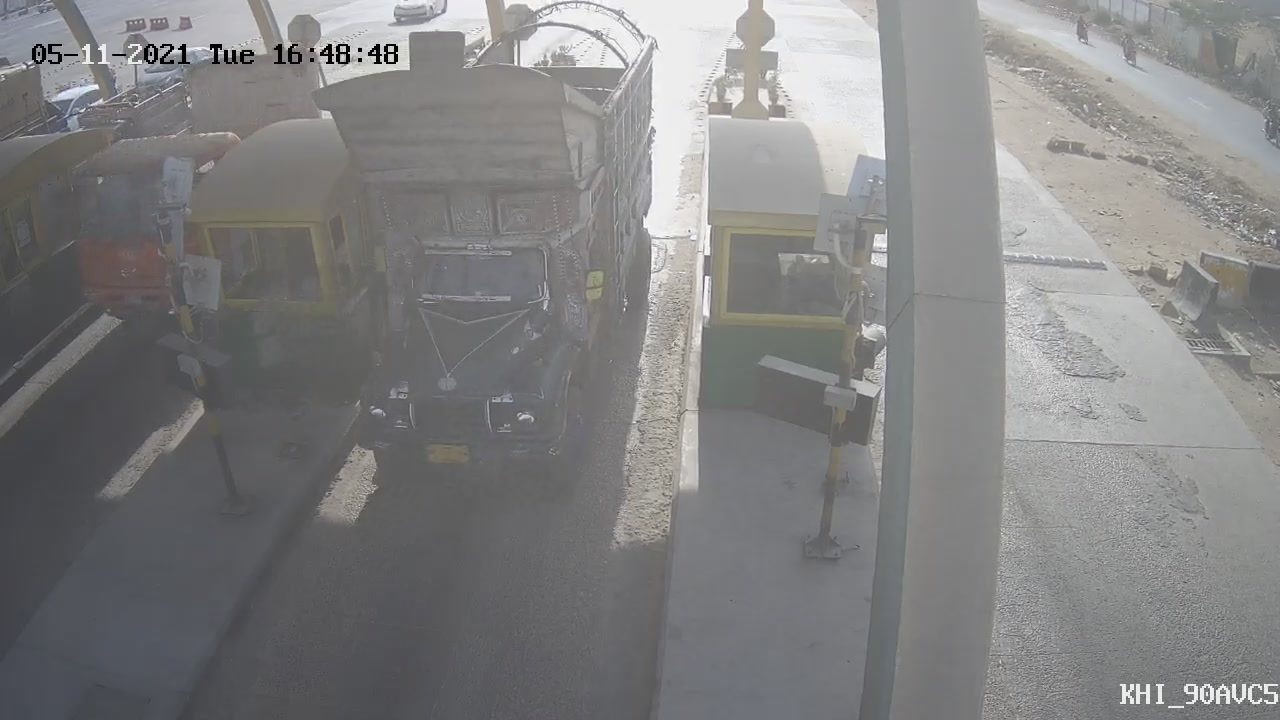F5: (291, 1, 682, 520)
